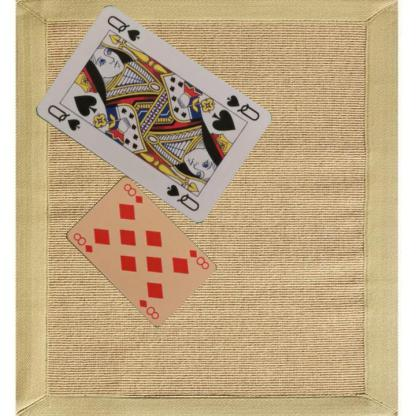8d: (70, 230, 93, 254), (186, 247, 210, 270)
Qs: (223, 92, 261, 122), (44, 102, 81, 132)
